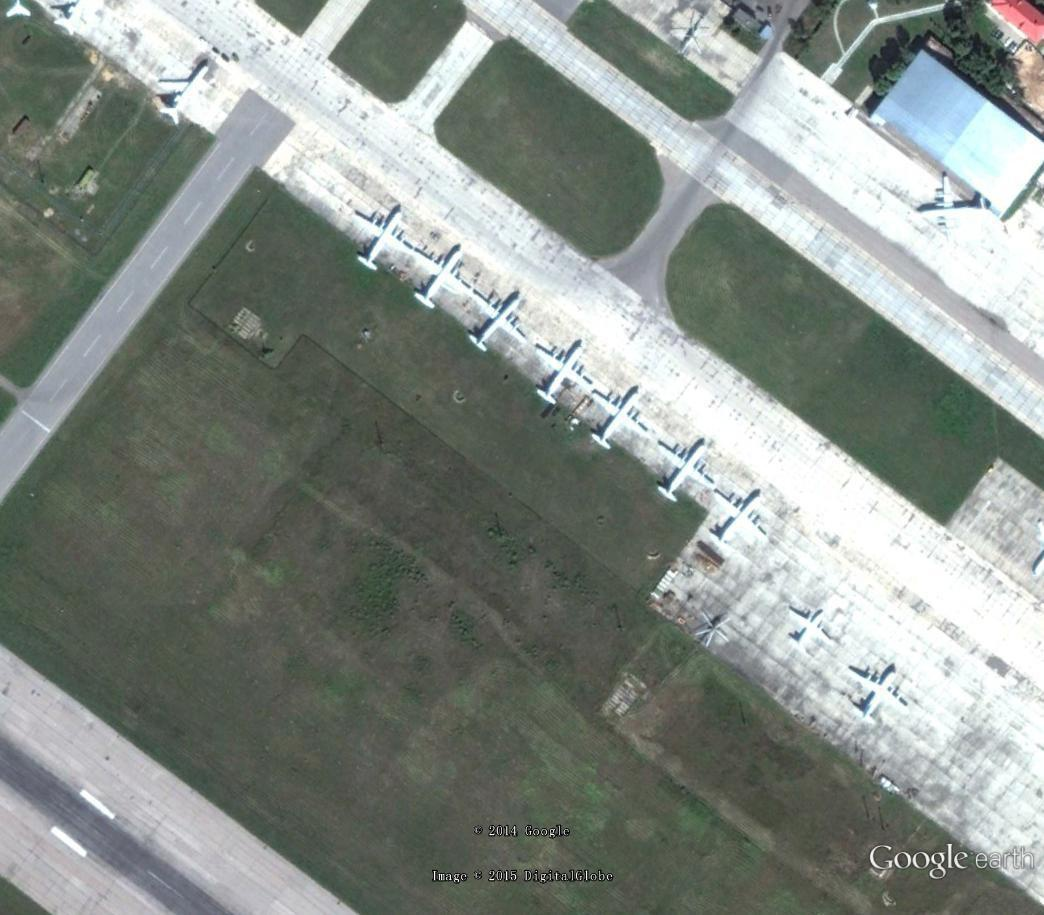aircraft: (705, 484, 780, 561), (153, 60, 231, 132), (348, 204, 420, 276), (588, 381, 655, 457), (409, 240, 475, 315), (465, 286, 532, 357), (531, 337, 595, 411), (652, 438, 718, 508), (846, 661, 915, 727), (784, 607, 840, 657)
